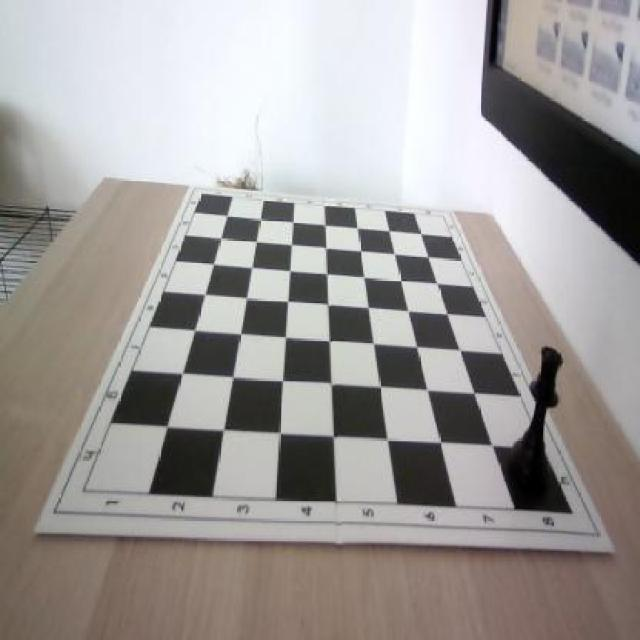black-pawn: (508, 340, 564, 502)
